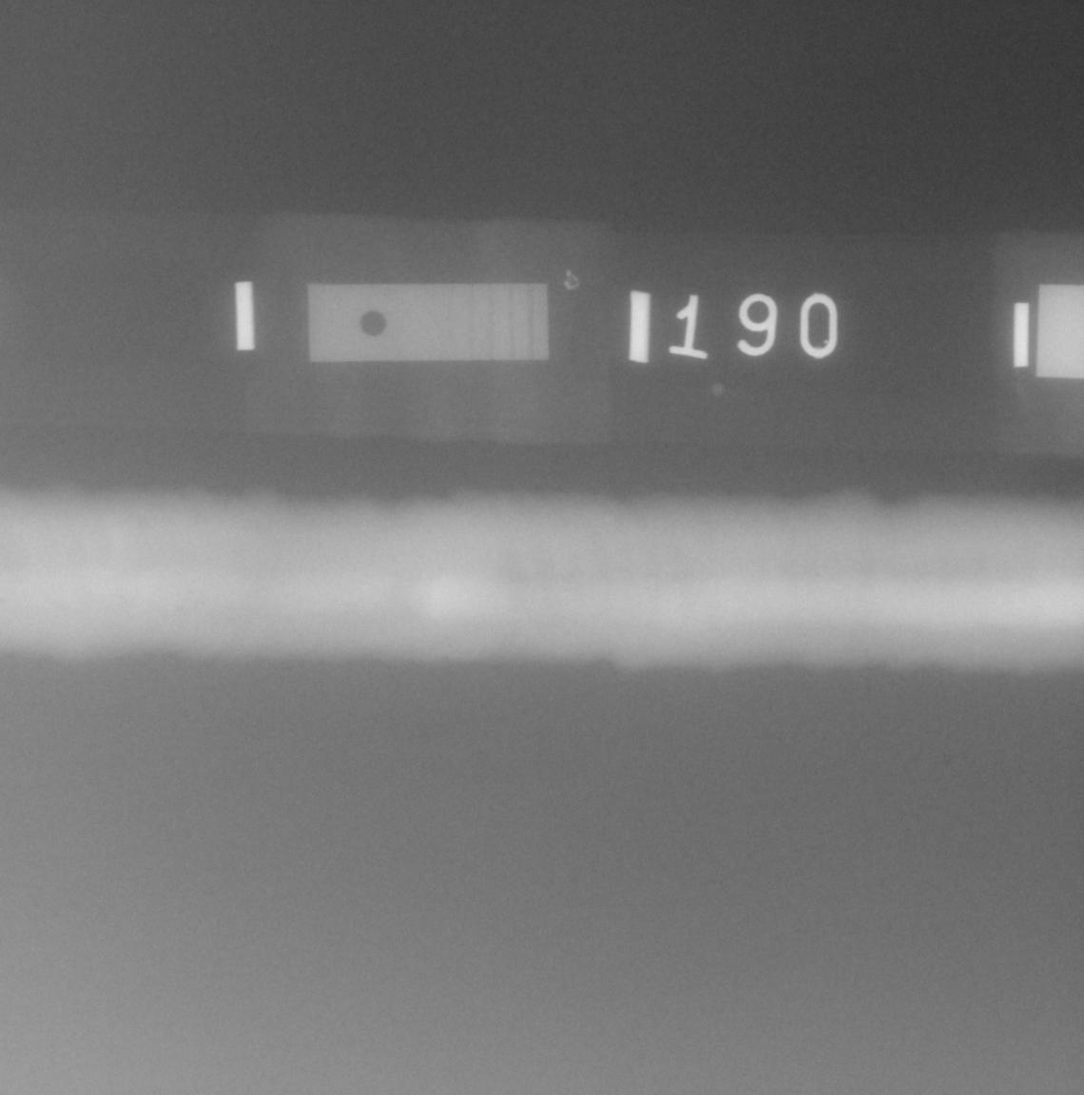Pore/Porosity: (177, 607, 182, 612)
Reference Standard 1: (308, 284, 548, 361)
